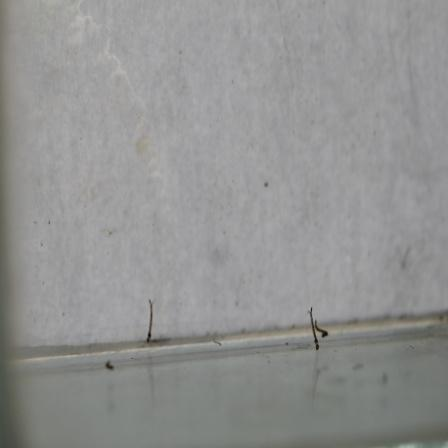Jentik-Nyamuk: (304, 300, 333, 357), (142, 296, 157, 348)
